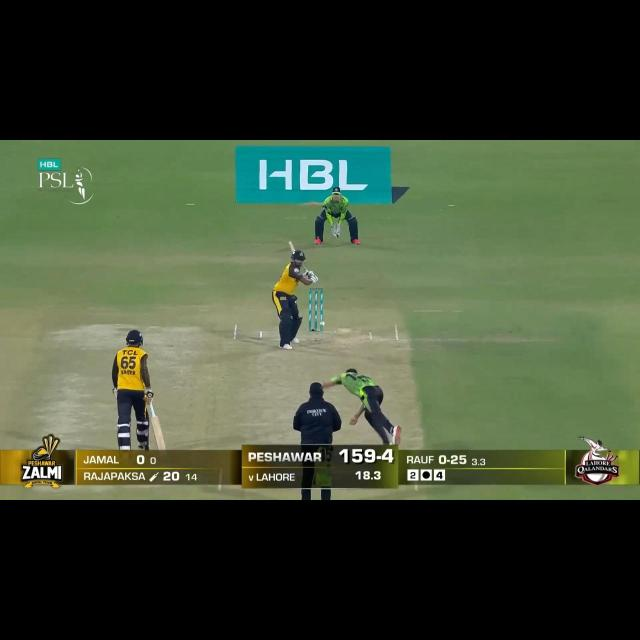bat: (284, 237, 309, 270), (150, 416, 168, 451)
toe: (156, 440, 168, 451), (287, 241, 297, 254)
